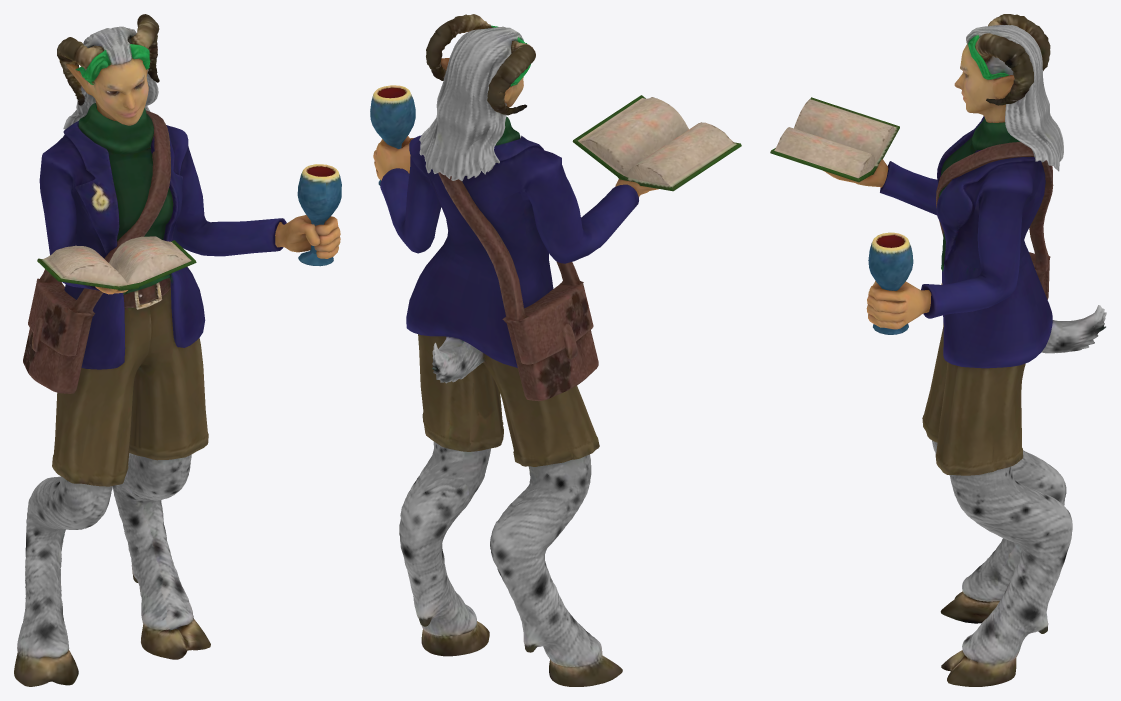
Rendered from MZ4250 - Satyr Female Wizard.glb.
3 views of the same model, side by side, from view 1: azimuth 30°, elevation 25°; view 2: azimuth 150°, elevation 25°; view 3: azimuth 270°, elevation 25° (orthographic). The views are drawn at different scales.
Visible parts, largest first — view 1: Satyr Female Wizard sculpt.001; view 2: Satyr Female Wizard sculpt.001; view 3: Satyr Female Wizard sculpt.001.
Part boxes in pixels (x1=…): Satyr Female Wizard sculpt.001: x1=14, y1=14, x2=341, y2=686; Satyr Female Wizard sculpt.001: x1=370, y1=14, x2=741, y2=686; Satyr Female Wizard sculpt.001: x1=770, y1=14, x2=1106, y2=686.
Bounding box in the file's own units: 18.9 × 35.1 × 16.98.
Materials: 1 (1 with a texture image).
